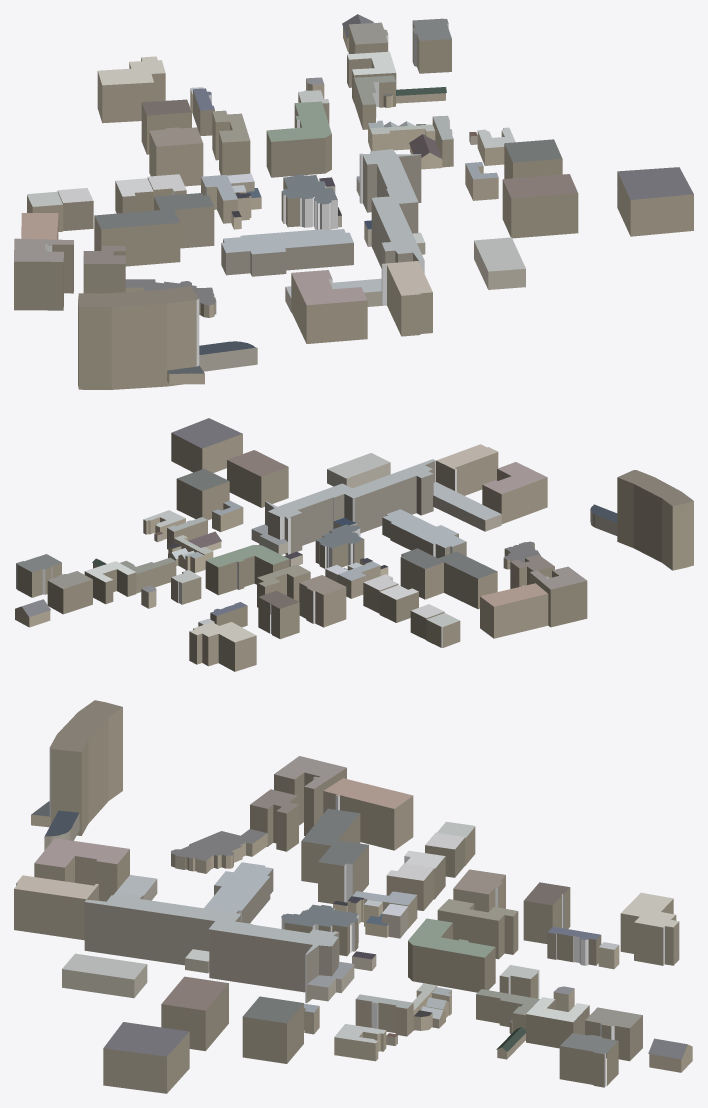
The picture shows the model from 3 angles, top to bottom: view 1: azimuth 30°, elevation 25°; view 2: azimuth 150°, elevation 25°; view 3: azimuth 270°, elevation 25°; orthographic projection. The views are drawn at different scales.
Parts seen in each view (by area): view 1: tuile; view 2: tuile; view 3: tuile.
Boxes of the visible parts, x1,y1,x2,y2 form: tuile: (14, 14, 693, 389); tuile: (15, 418, 693, 671); tuile: (14, 700, 692, 1093).
Bounding box in the file's own units: 283 × 36.72 × 258.
